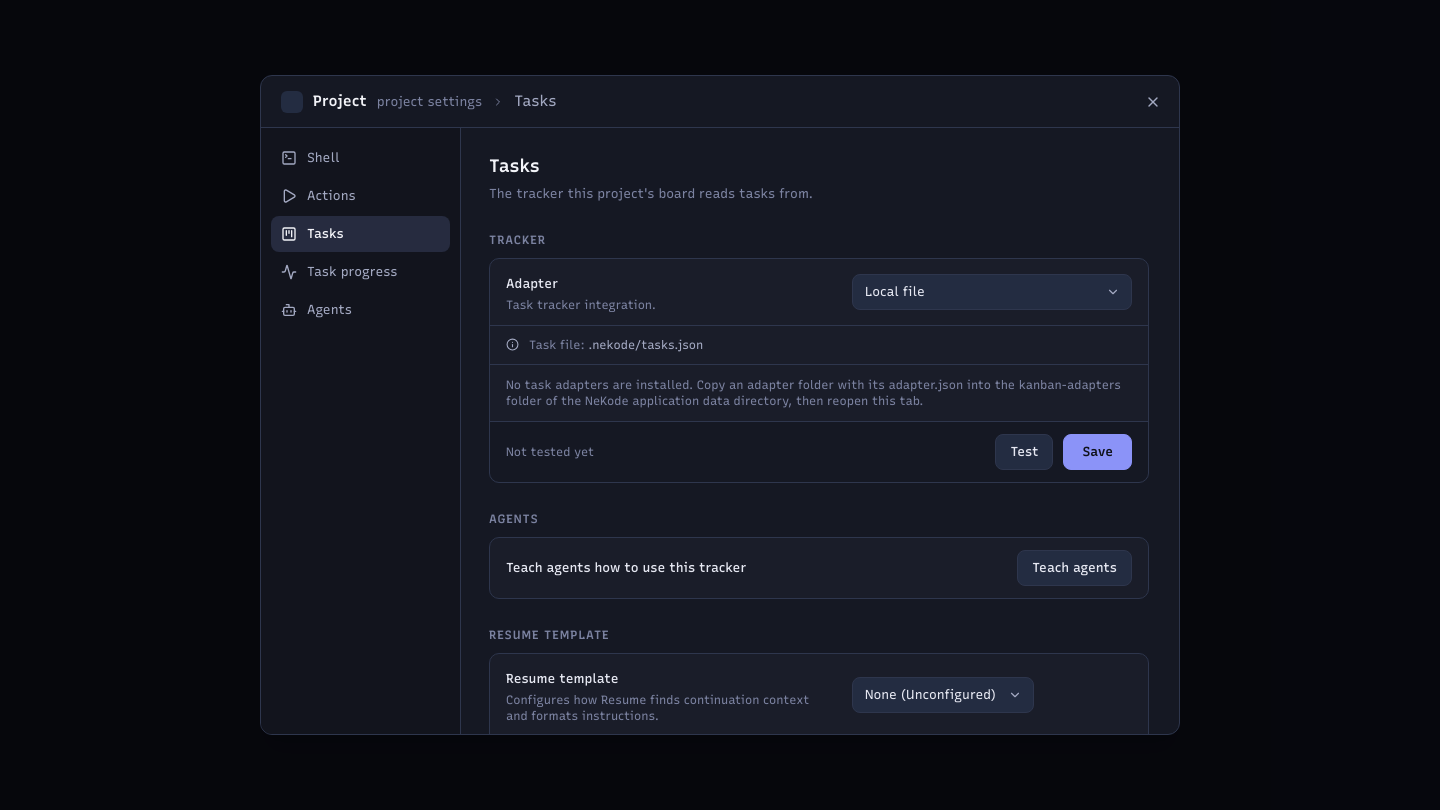
Kanban tab shell › Escape in the Teach agents dialog closes only that dialog, and not while the write runs
Click the button with test id "settings-kanban-teach-agents" at (1075, 568), box [1017,550,1132,586]
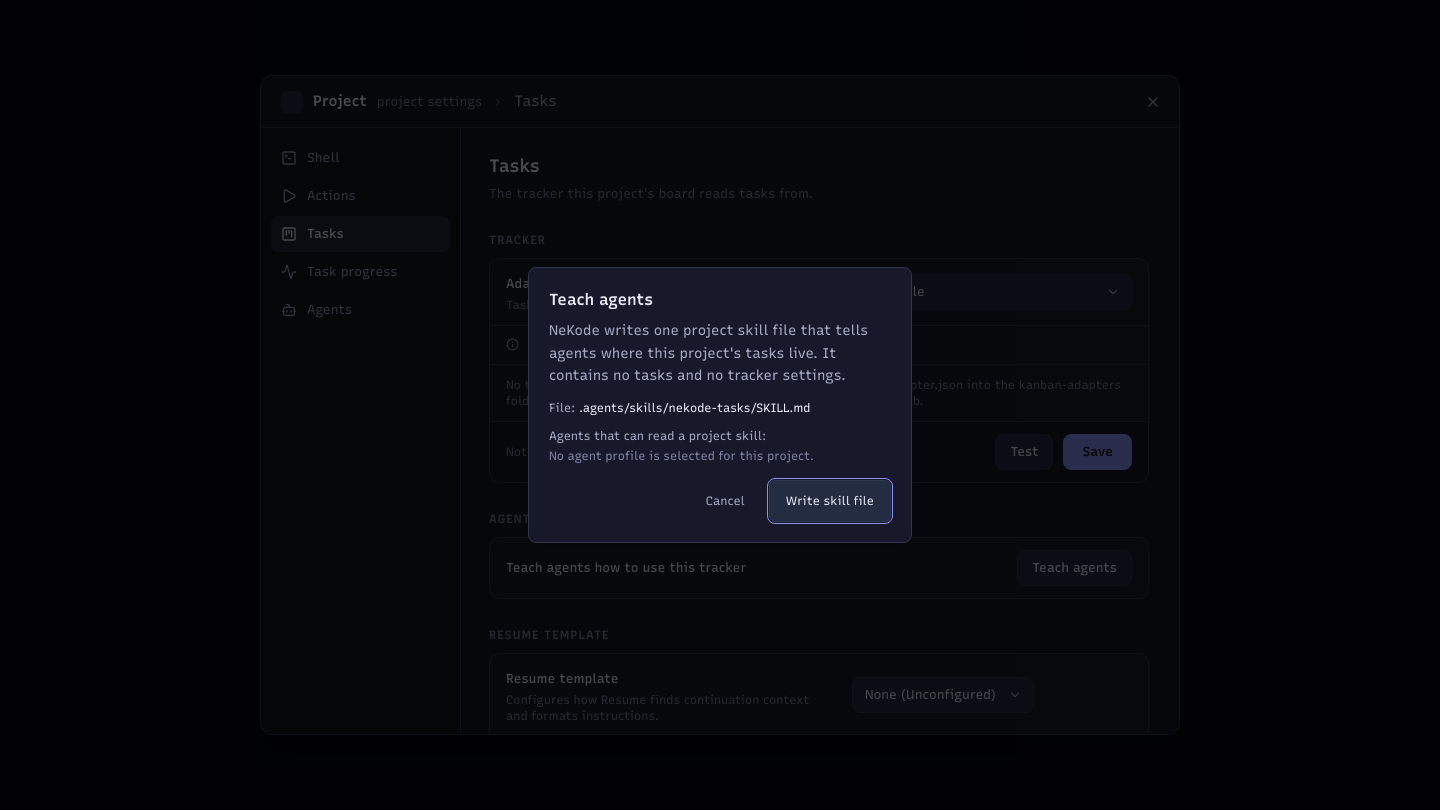
Press Escape in the button "Write skill file", box [769,480,891,522]
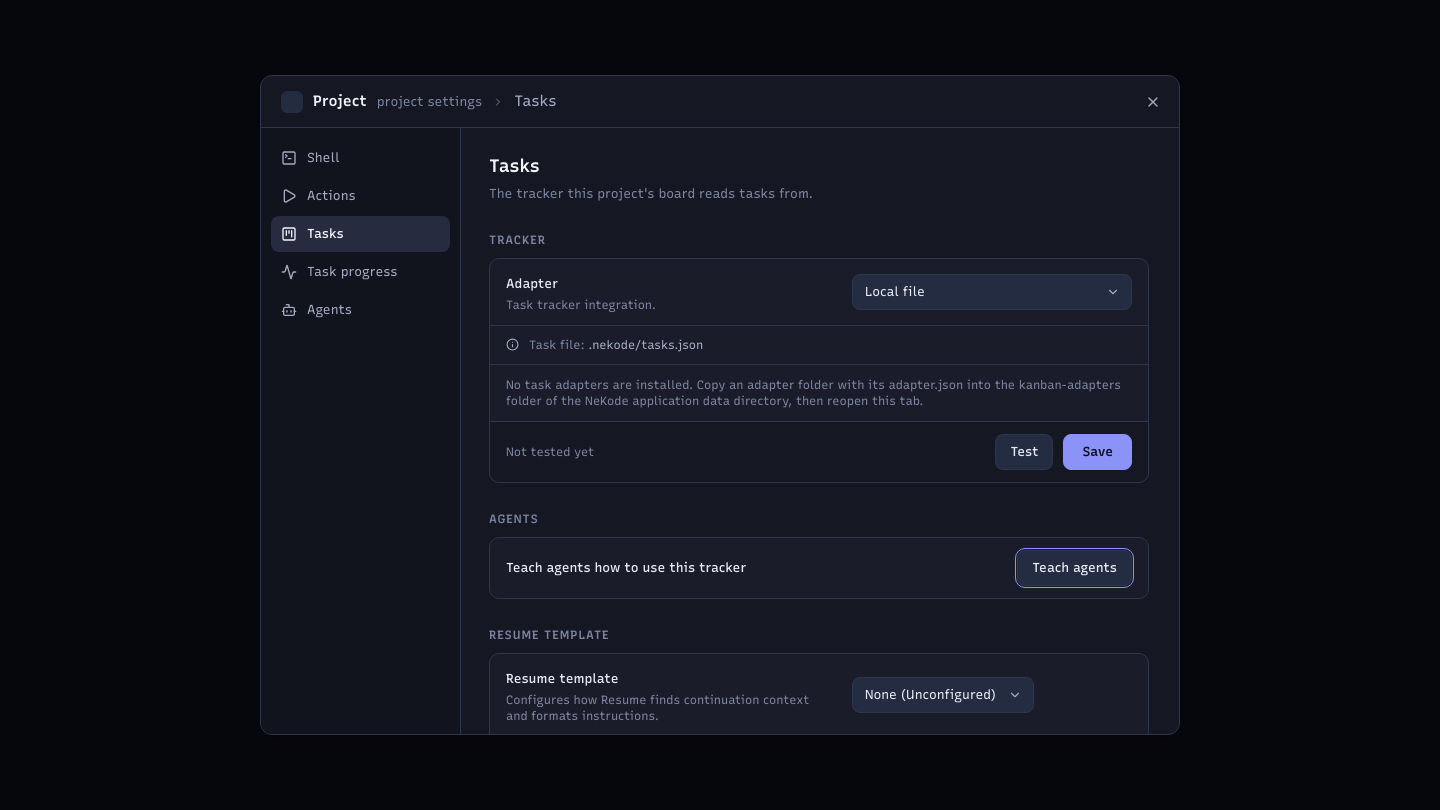
Expected: the dialog with test id "confirm-dialog" is gone
Click the button with test id "settings-kanban-teach-agents" at (1075, 568), box [1017,550,1132,586]
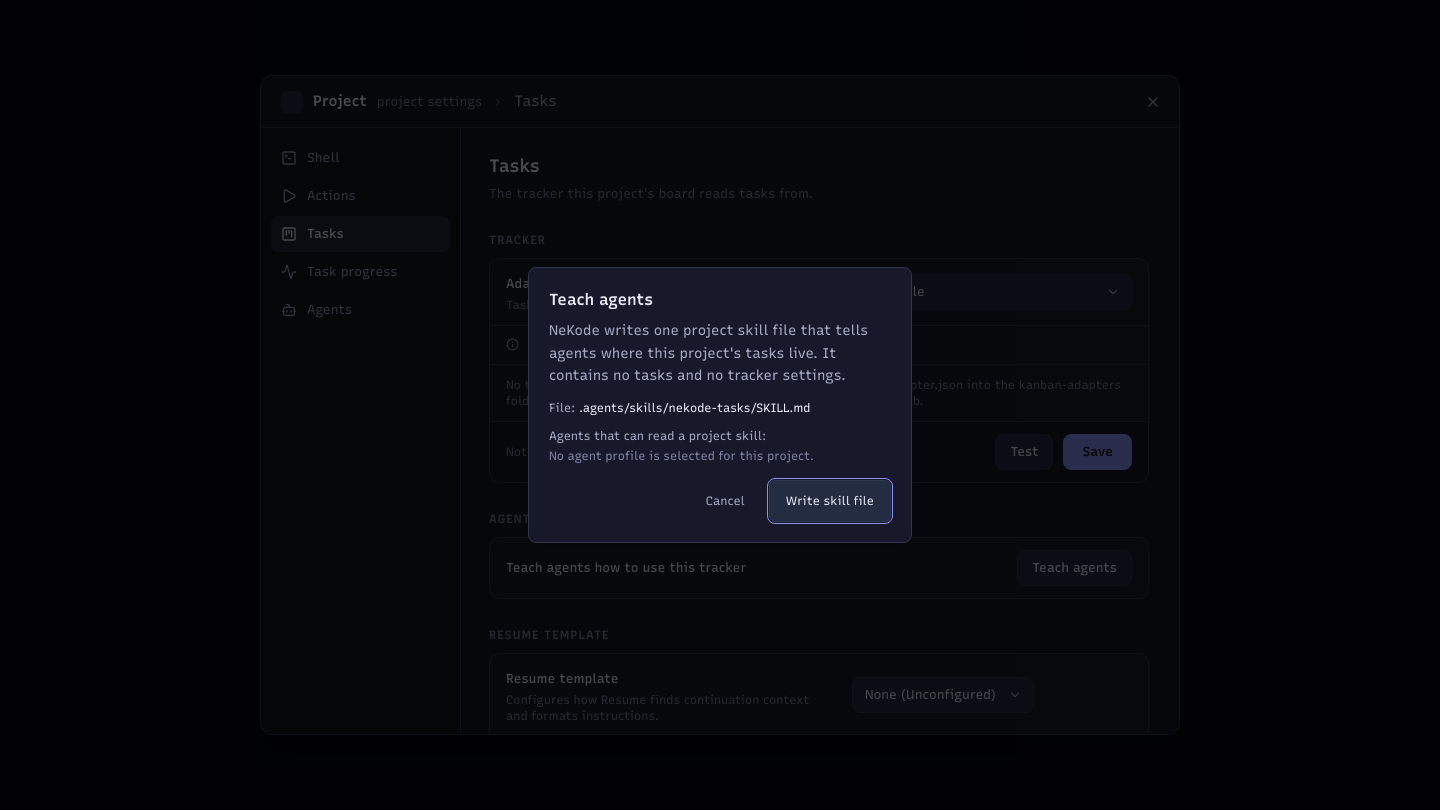
Click the button with test id "confirm-dialog-confirm" at (830, 501), box [769,480,891,522]
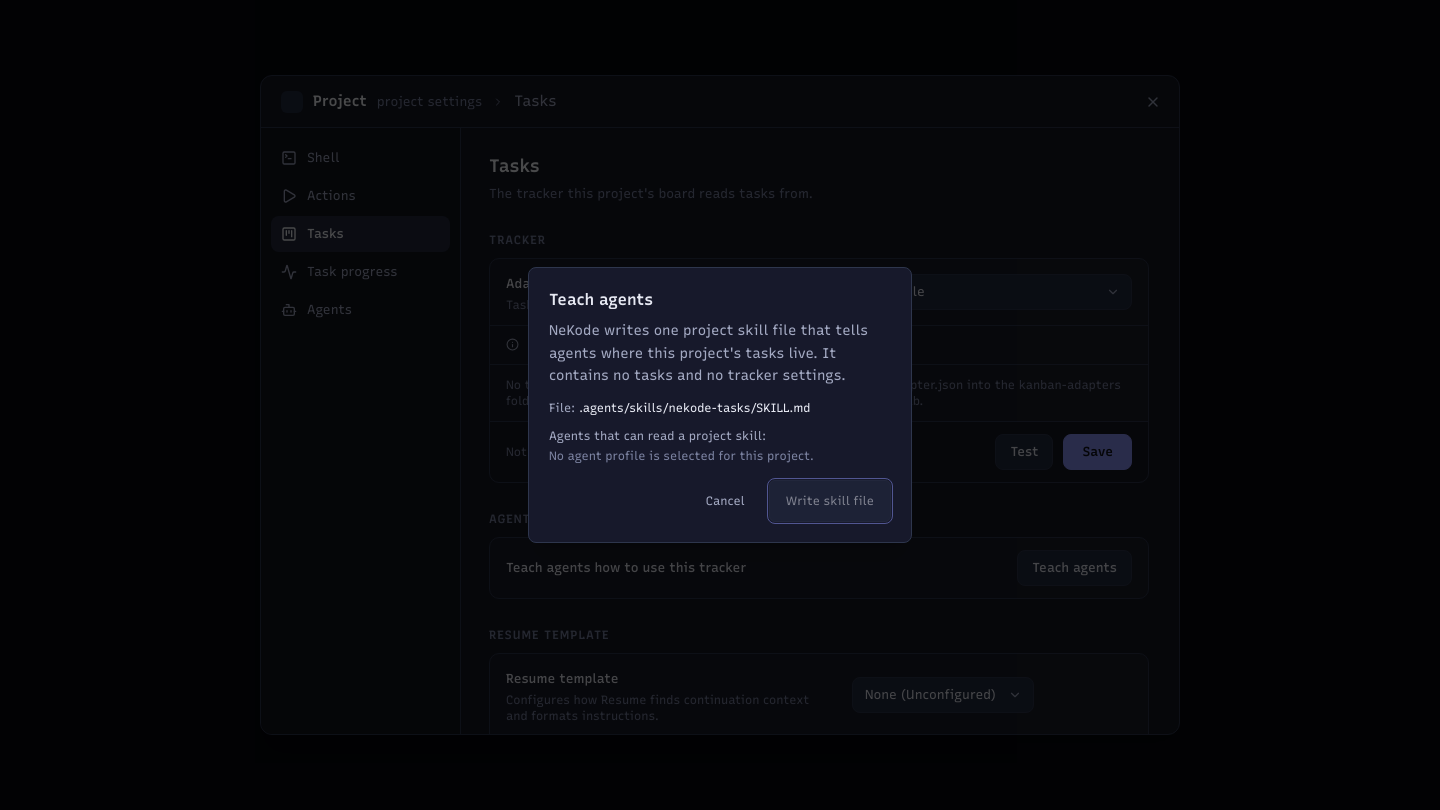
Expected: the button with test id "confirm-dialog-confirm" is enabled
Press Escape in the button with test id "confirm-dialog-confirm", box [769,480,891,522]
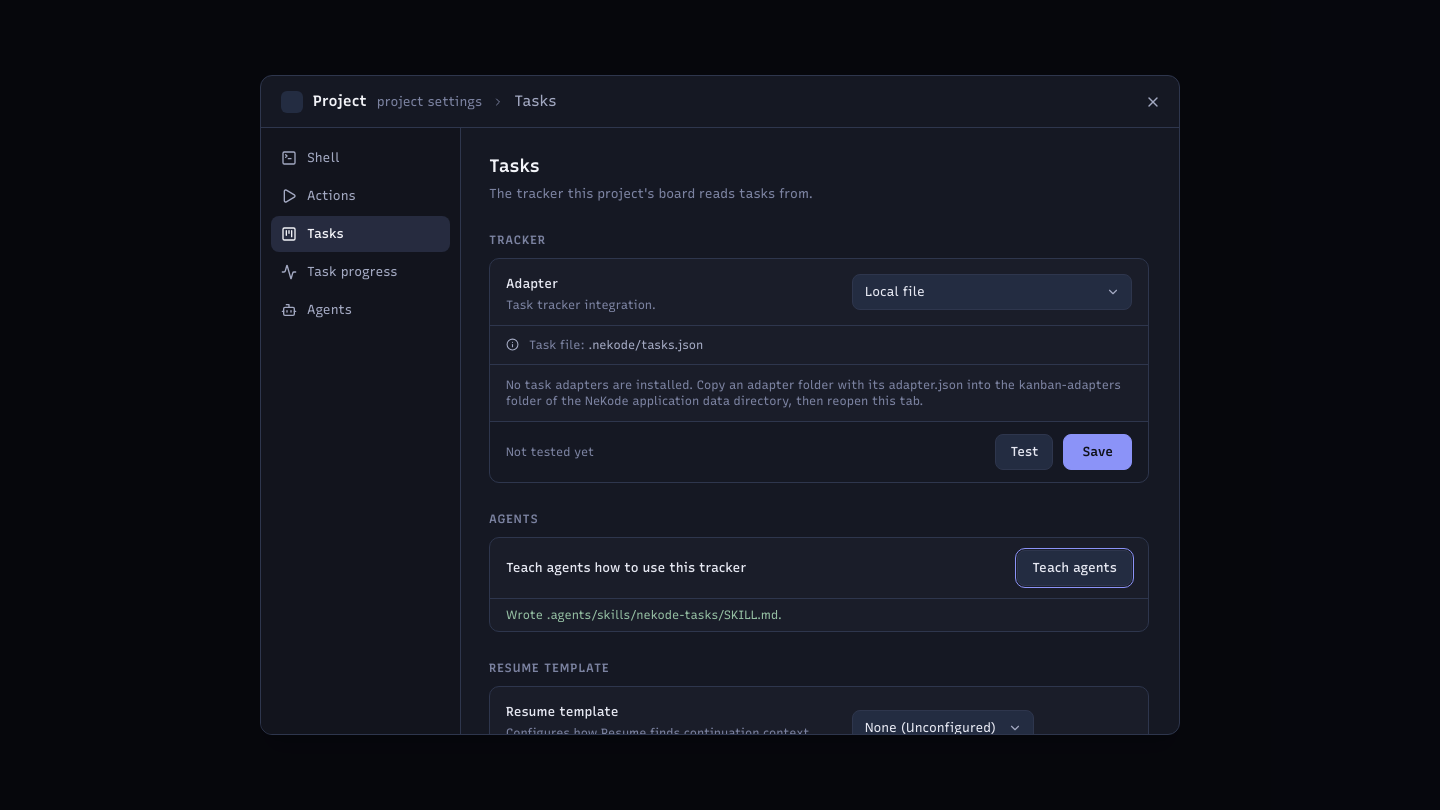
Expected: the dialog with test id "confirm-dialog" is gone
